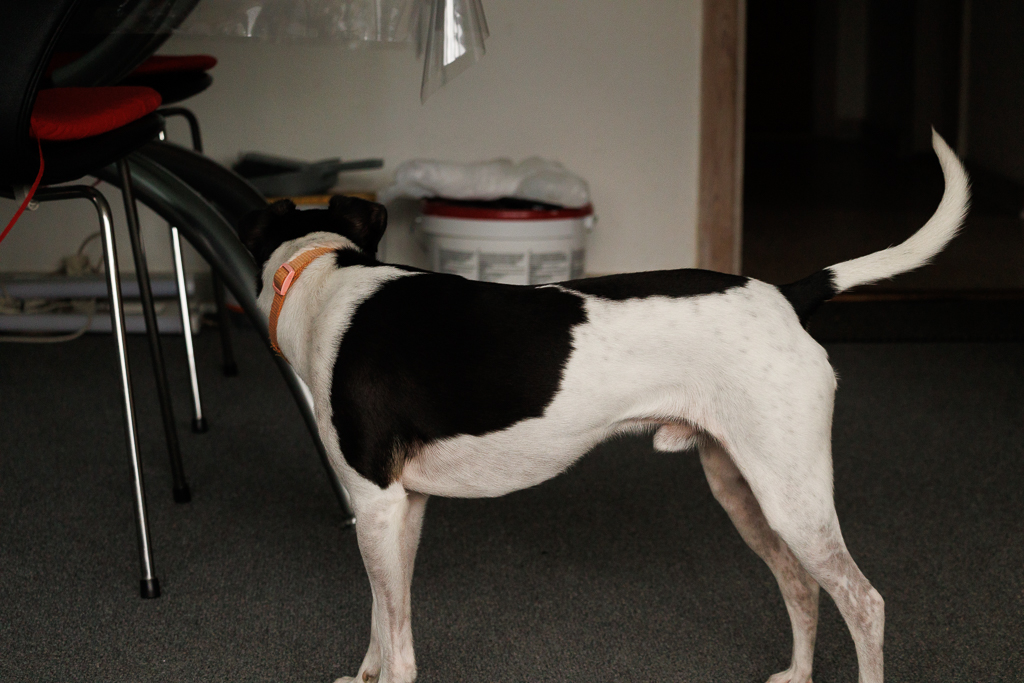Dog: (218, 124, 976, 683)
